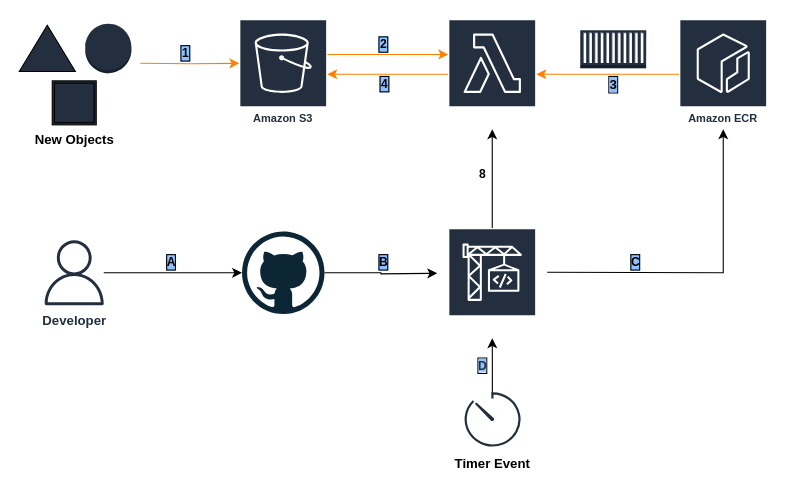
This 787x491 diagram has some shape labels left out. The centre of each missing label's shape, as x and y in pixels:
AWS CodeBuild: the point at 491,282
AWS Lambda: the point at 491,73
Code Repository: the point at 282,272
